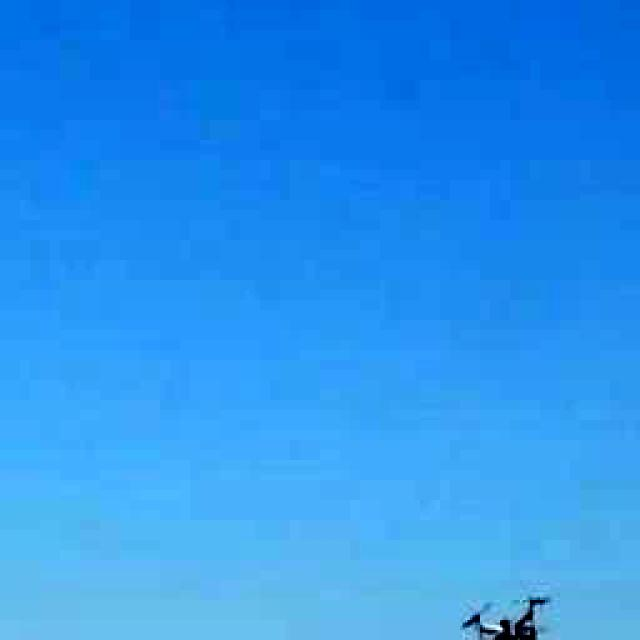bird: (442, 588, 562, 640)
